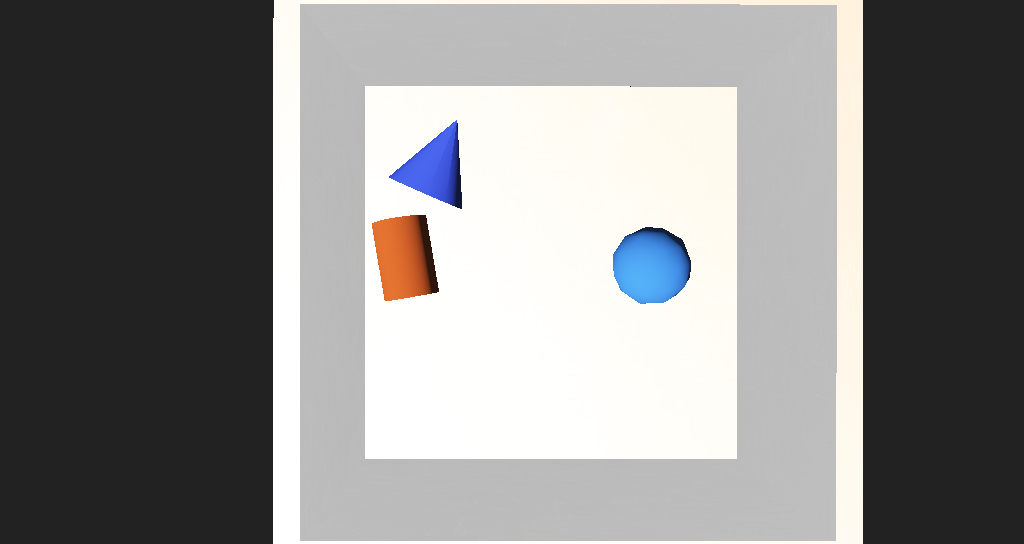cone: (360, 236, 421, 289)
cylinder: (364, 165, 458, 236)
sphere: (556, 246, 616, 289)
